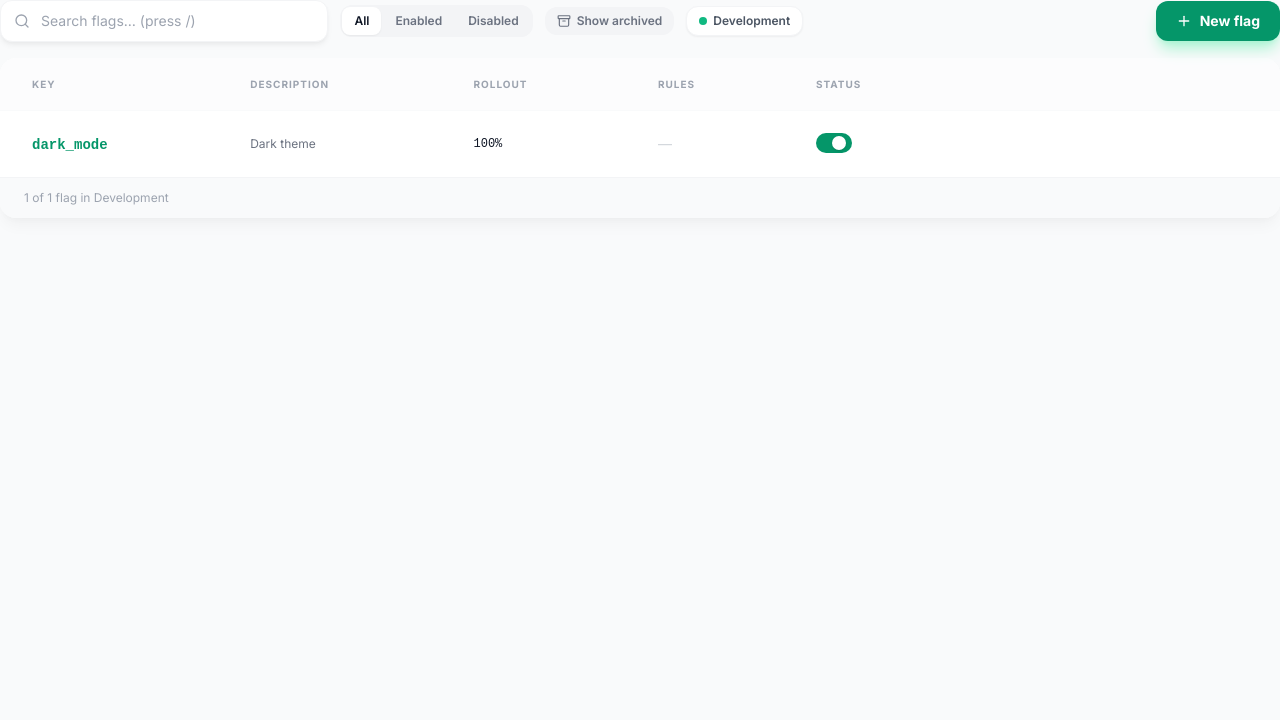
Test: FlagList flag panel › opens the create panel in a drawer instead of navigating away
This screenshot has width=1280, height=720.
Expected: the text "dark_mode" is shown, [32,136,108,152]
Click the button "New flag".
click(1218, 21)  # box [1156,1,1279,41]
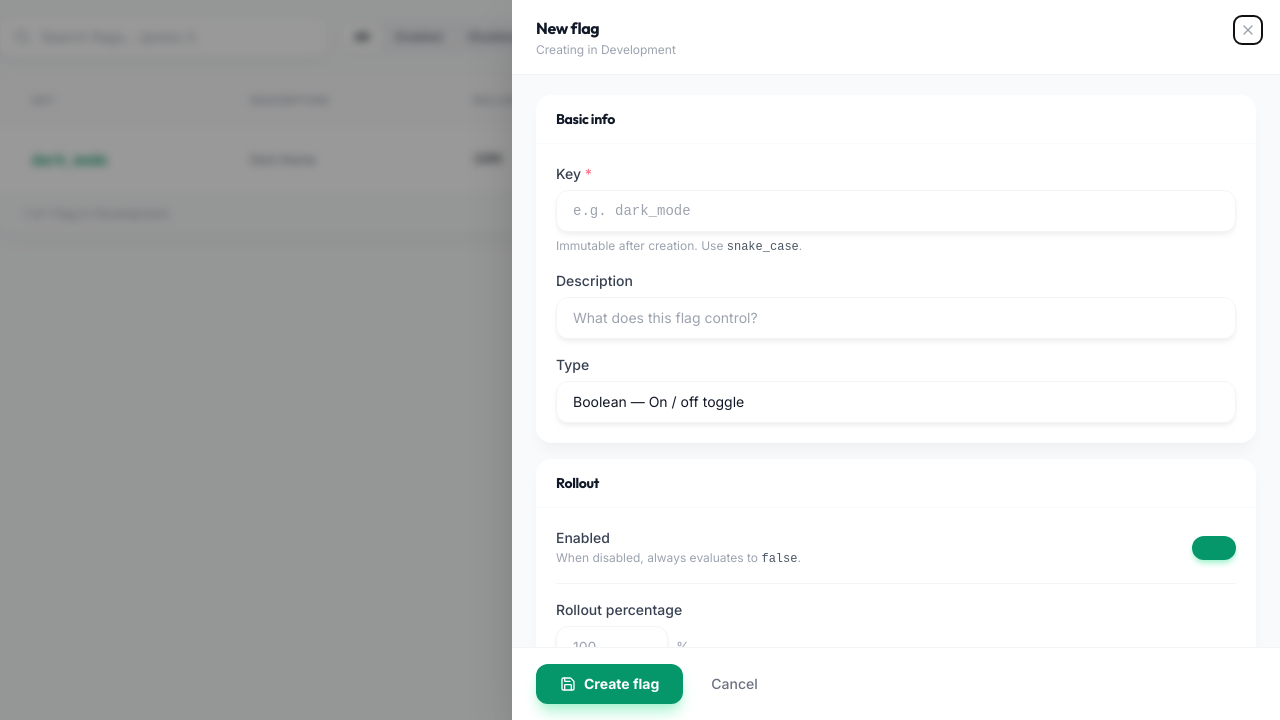
Expected: the field with placeholder "e.g. dark_mode" is enabled, [556,190,1236,232]
